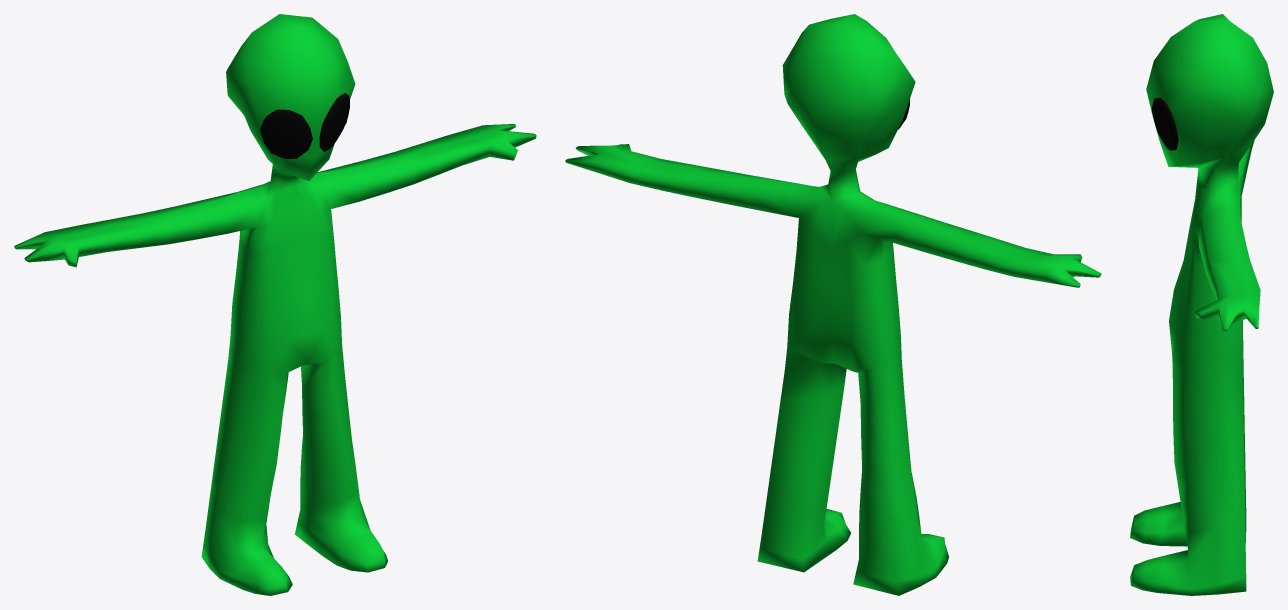
Rendered from AlienModel.obj.
3 views of the same model, side by side, from view 1: azimuth 30°, elevation 25°; view 2: azimuth 150°, elevation 25°; view 3: azimuth 270°, elevation 25° (orthographic). The views are drawn at different scales.
Visible parts, largest first — view 1: Body, Eyes; view 2: Body; view 3: Body, Eyes.
Part boxes in pixels (left/top/right/bottom): Body: left=14, top=14, right=536, bottom=595; Eyes: left=260, top=93, right=349, bottom=158; Body: left=565, top=14, right=1101, bottom=595; Body: left=1130, top=14, right=1273, bottom=595; Eyes: left=1151, top=97, right=1178, bottom=150.
Bounding box in the file's own units: 1.23 × 1.23 × 0.2981.
